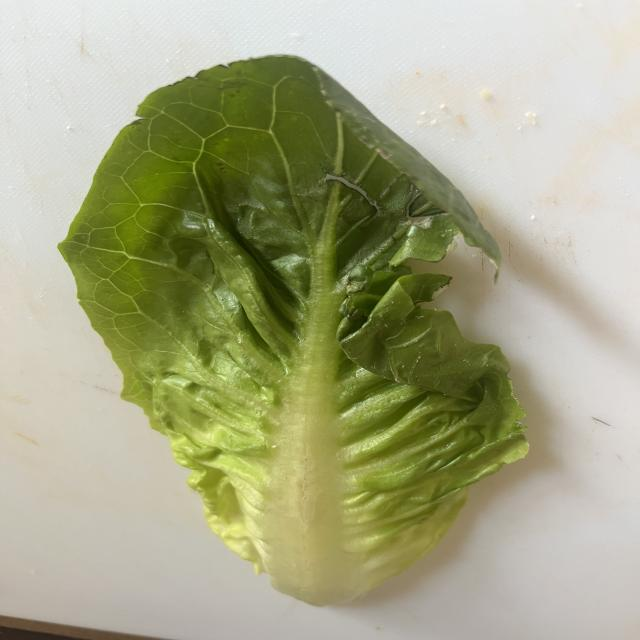lettuce: (60, 56, 528, 605)
